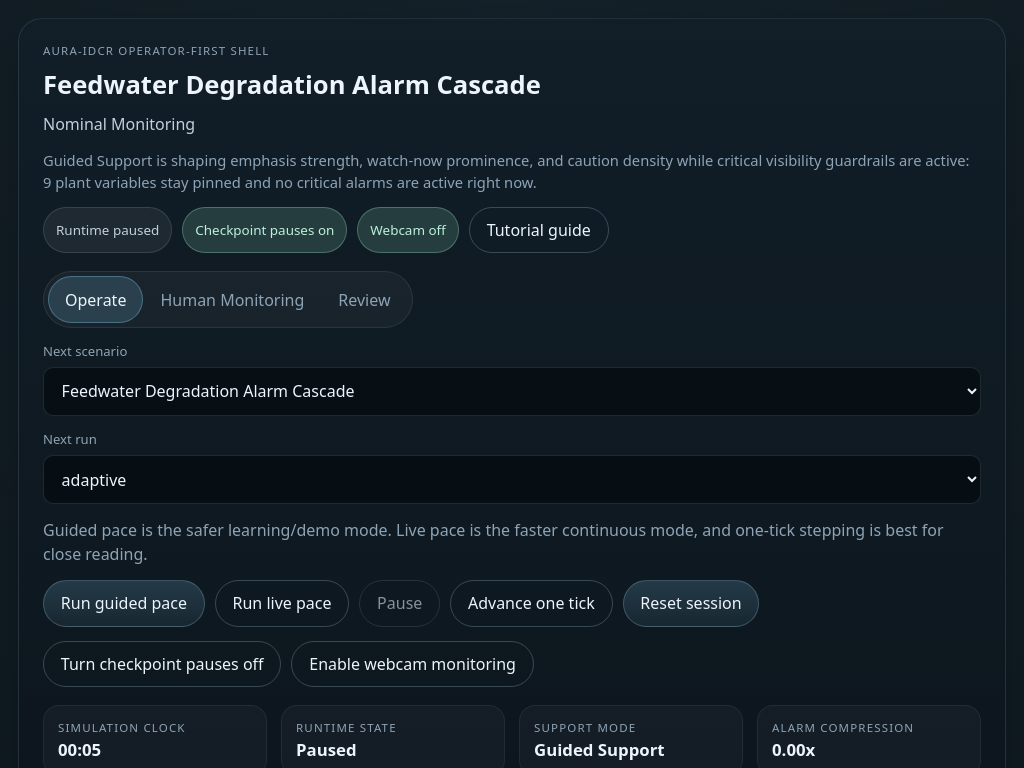
AuraSessionStore › renders interpretability panels from live monitoring contributors instead of a mock-only view
The width and height of the screenshot is (1024, 768).
Click the tab "Human Monitoring" at (232,300), box top-left (143, 276), bottom-right (321, 323)
(page scrolled)
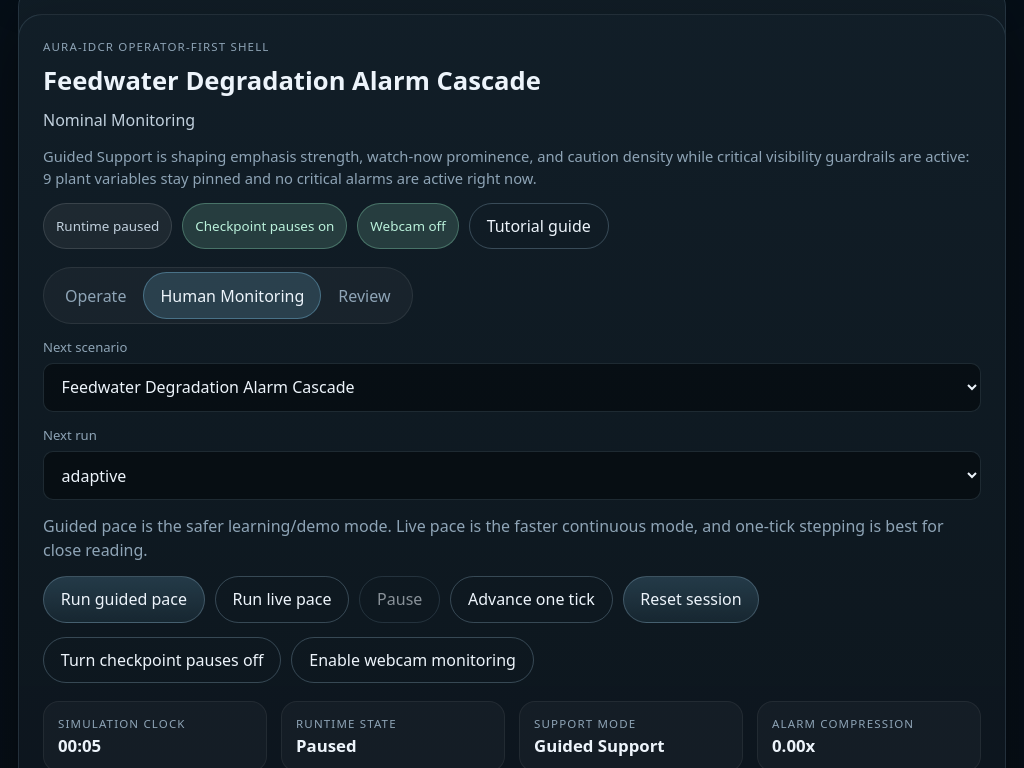
Now the text "Latency trend" is shown, box top-left (76, 376), bottom-right (156, 393)
